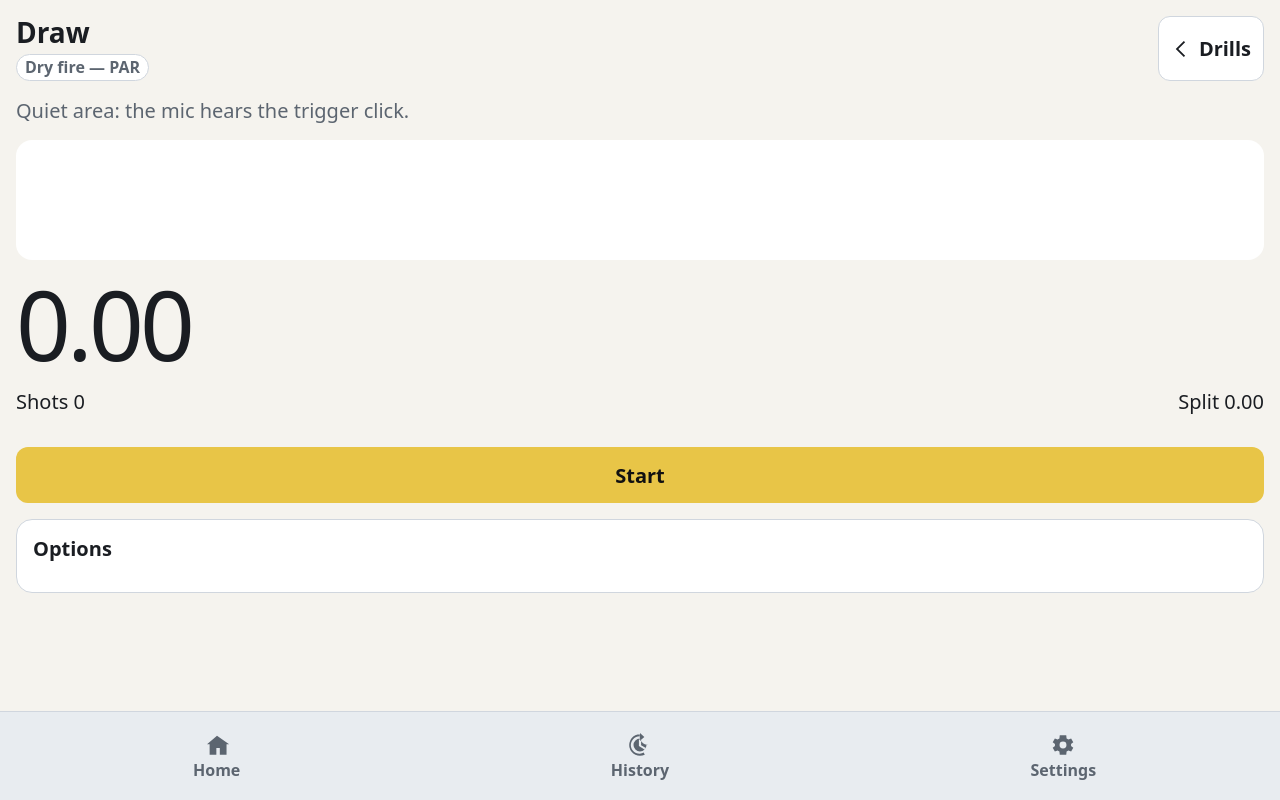
pages › shows a translated PAR error on Draw dry-PAR
Click the button with test id "start": (640, 475) [16,447,1264,503]
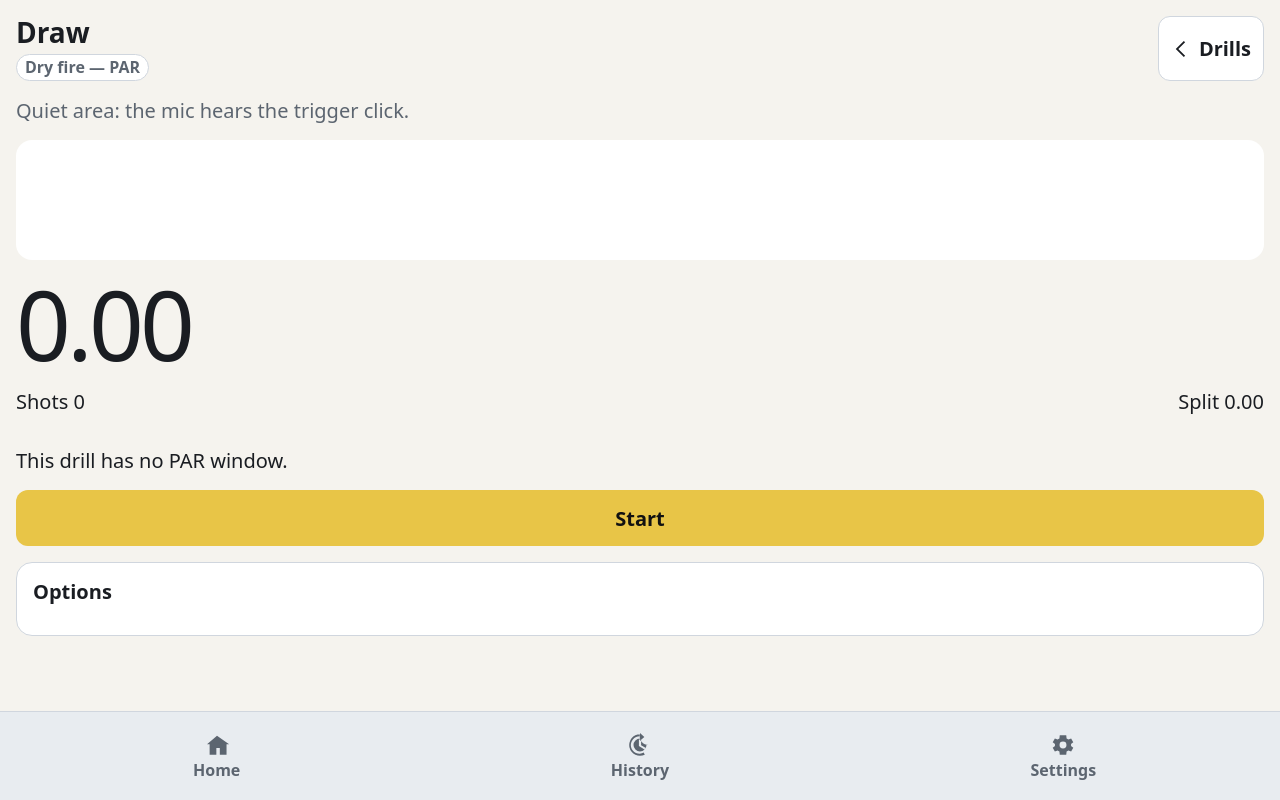
Expected: the text with test id "run-error" reads "This drill has no PAR window.", [16,447,288,474]
